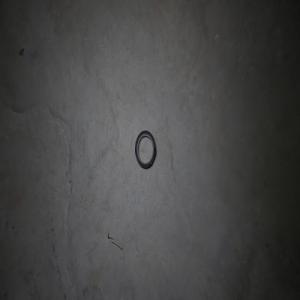Tape: (134, 129, 156, 168)
